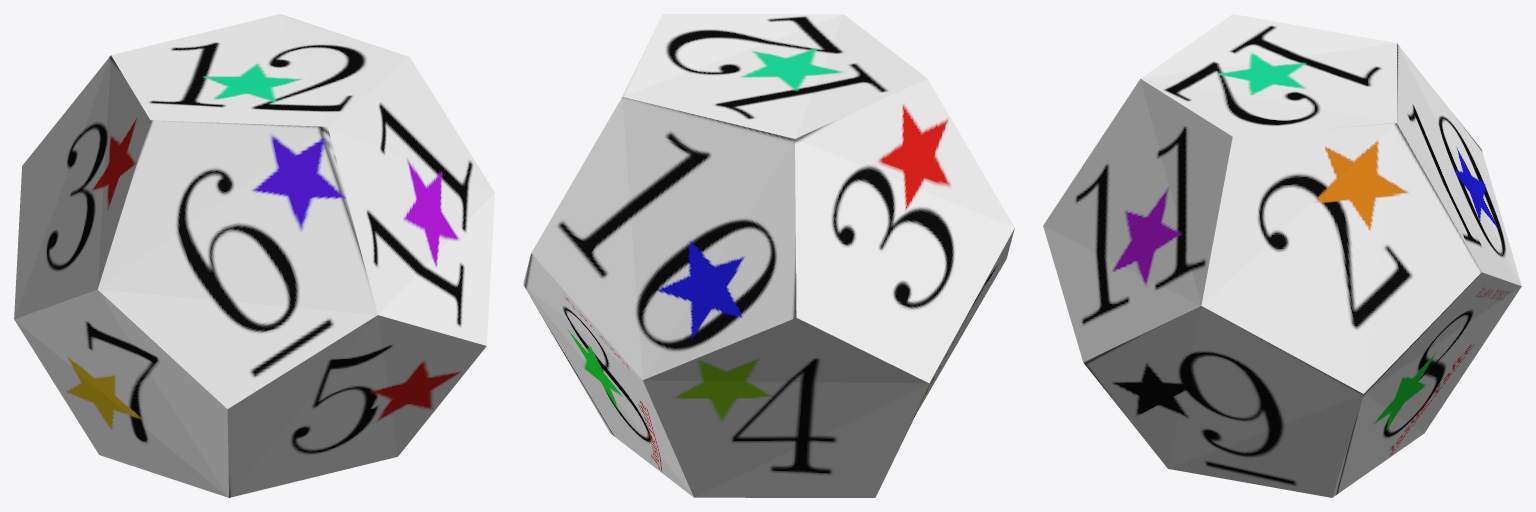
The model's file is dado.obj.
3 views of the same model, side by side, from view 1: azimuth 30°, elevation 25°; view 2: azimuth 150°, elevation 25°; view 3: azimuth 270°, elevation 25° (orthographic). The views are drawn at different scales.
Parts seen in each view (by area): view 1: Cube; view 2: Cube; view 3: Cube.
Part boxes in pixels (<box>): Cube: <box>14,14,494,497</box>; Cube: <box>523,14,1014,497</box>; Cube: <box>1043,14,1521,497</box>.
Size of the model in its own units: 3.06 by 2.74 by 3.3.
Materials: 1 (1 with a texture image).
